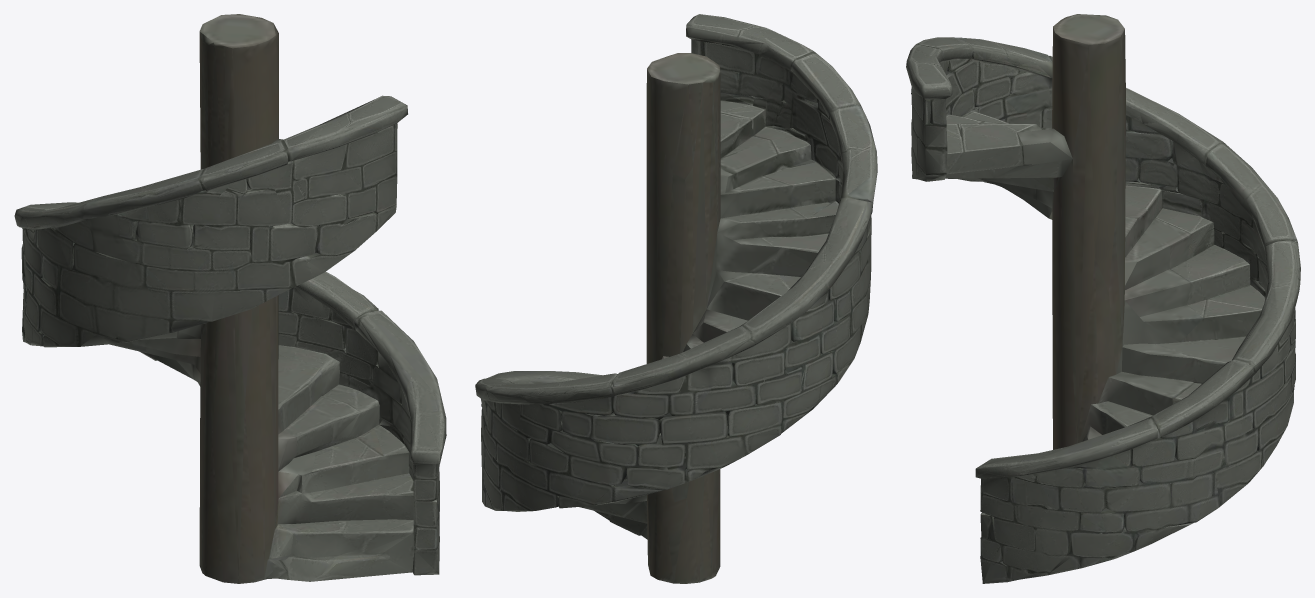
The model's file is obj_spiral_staircase.glb.
3 views of the same model, side by side, from view 1: azimuth 30°, elevation 25°; view 2: azimuth 150°, elevation 25°; view 3: azimuth 270°, elevation 25° (orthographic). The views are drawn at different scales.
Parts seen in each view (by area): view 1: Mesh_0; view 2: Mesh_0; view 3: Mesh_0.
Part boxes in pixels (x1,y1,x2,y2): Mesh_0: [14, 14, 446, 583]; Mesh_0: [475, 14, 877, 583]; Mesh_0: [906, 14, 1300, 583].
Size of the model in its own units: 1.39 by 1.9 by 1.38.
1 material, 1 textured.
